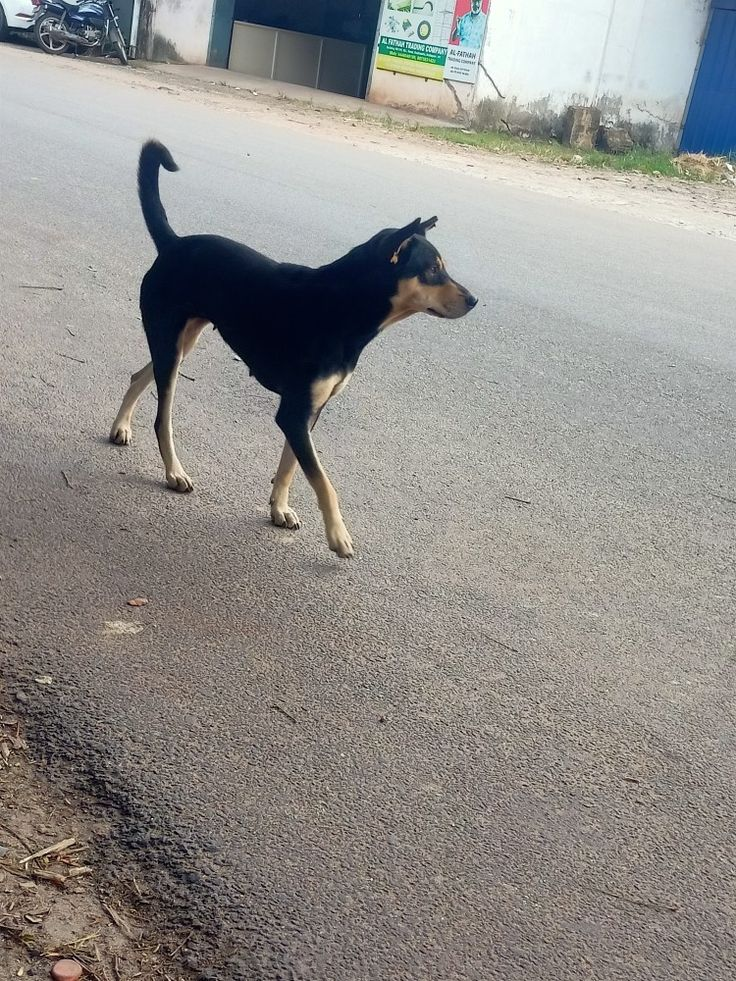Dog: (67, 122, 518, 590)
